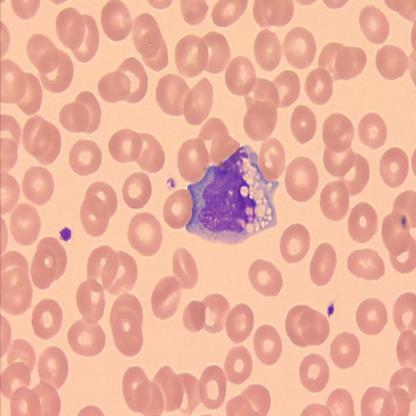Atypical lymphocyte: (186, 142, 280, 246)
